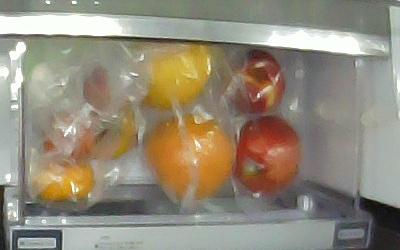apple_vinyl: (234, 117, 302, 195), (220, 50, 285, 113)
grapefruit_vinyl: (145, 113, 237, 201), (133, 44, 212, 107)
persimmon_vinyl: (83, 97, 138, 159), (32, 161, 95, 202)
prune_vinyl: (42, 111, 96, 166), (83, 66, 110, 111)
